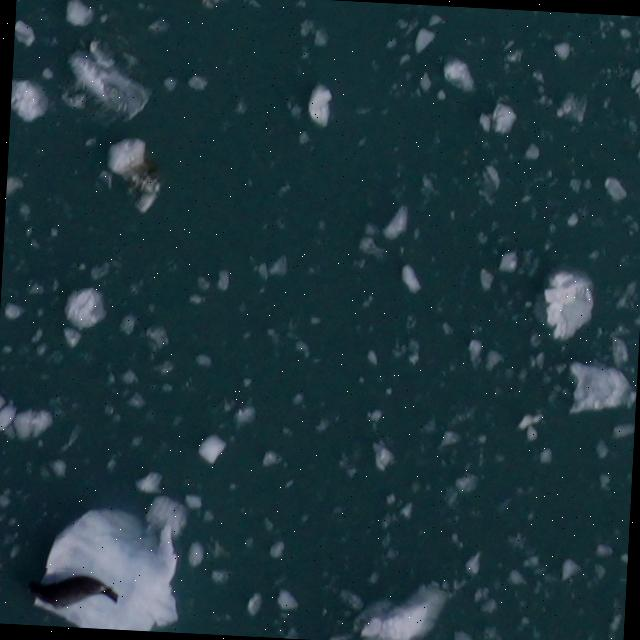seal: (20, 567, 124, 614)
